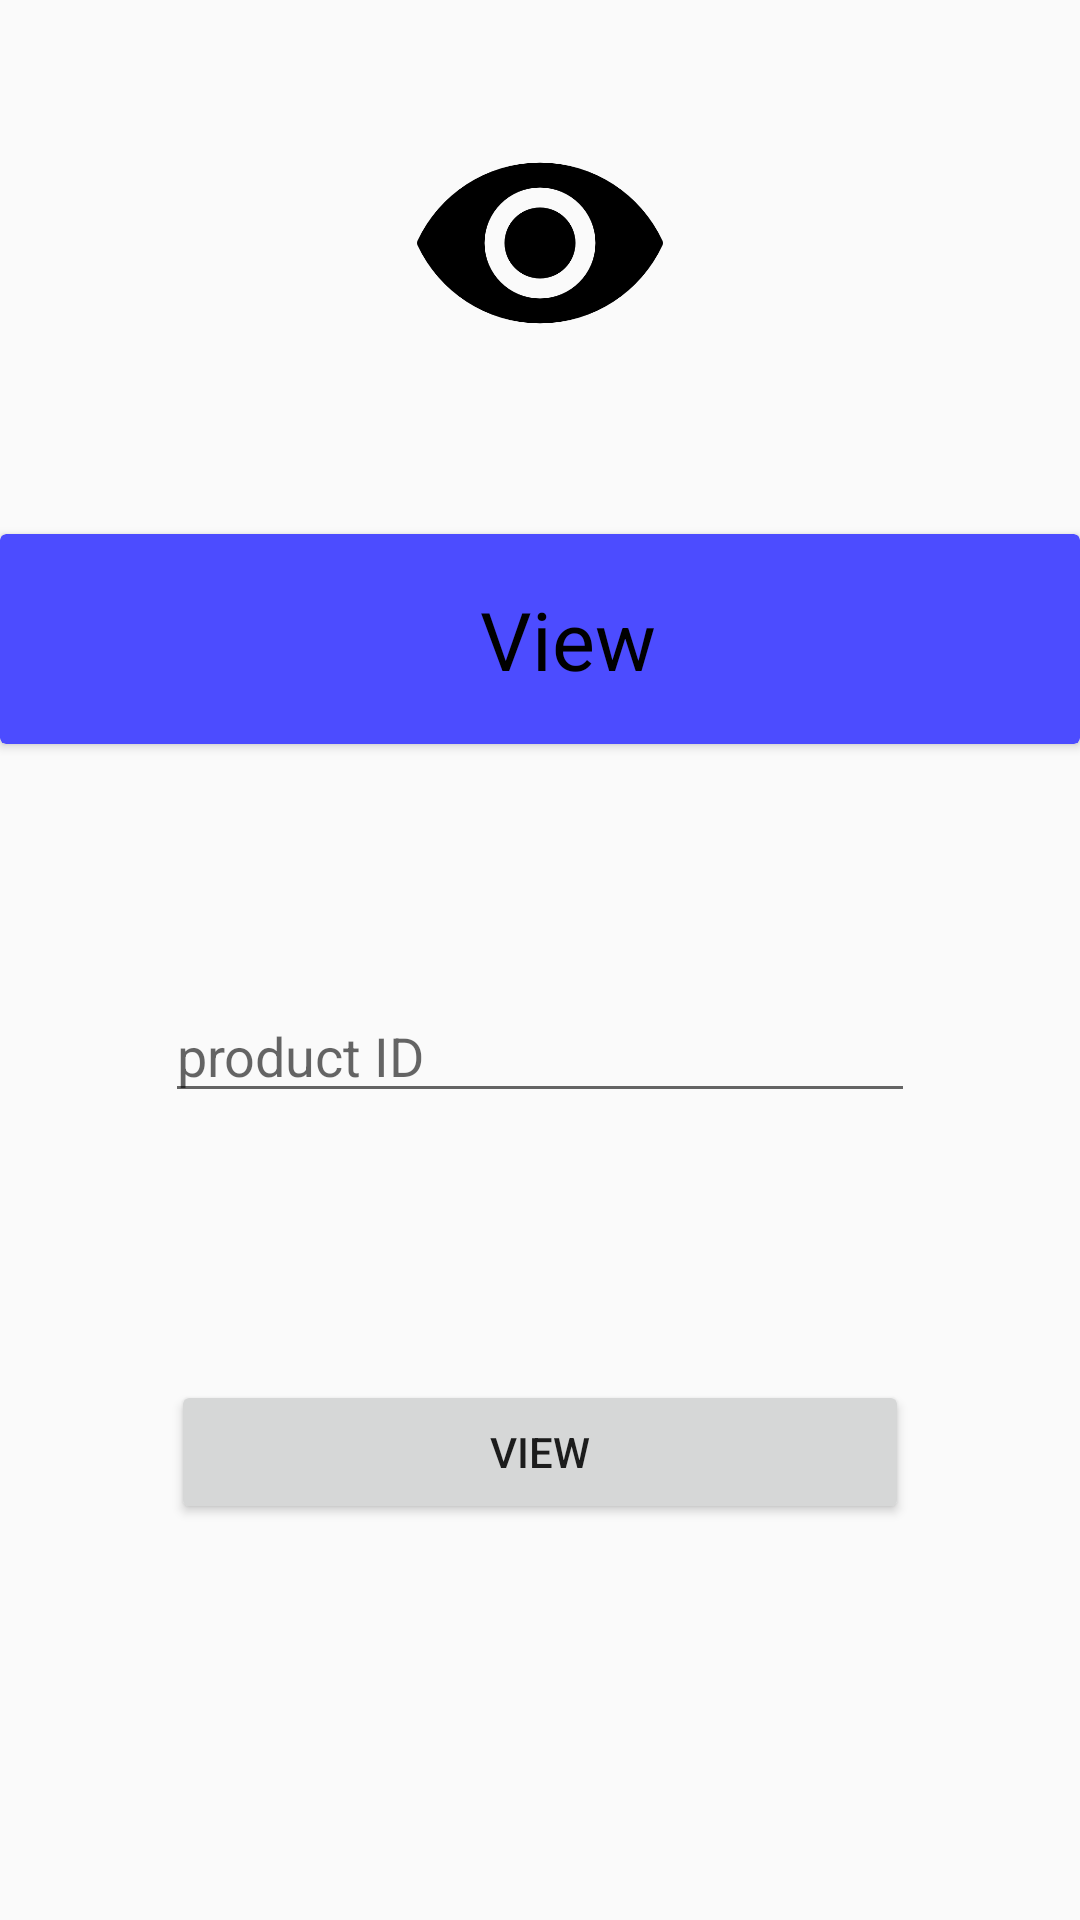

Icons on this 1080*1920 Android screen, each with its box as (x1, y1, x2, y2):
view: (417, 162, 663, 324)
